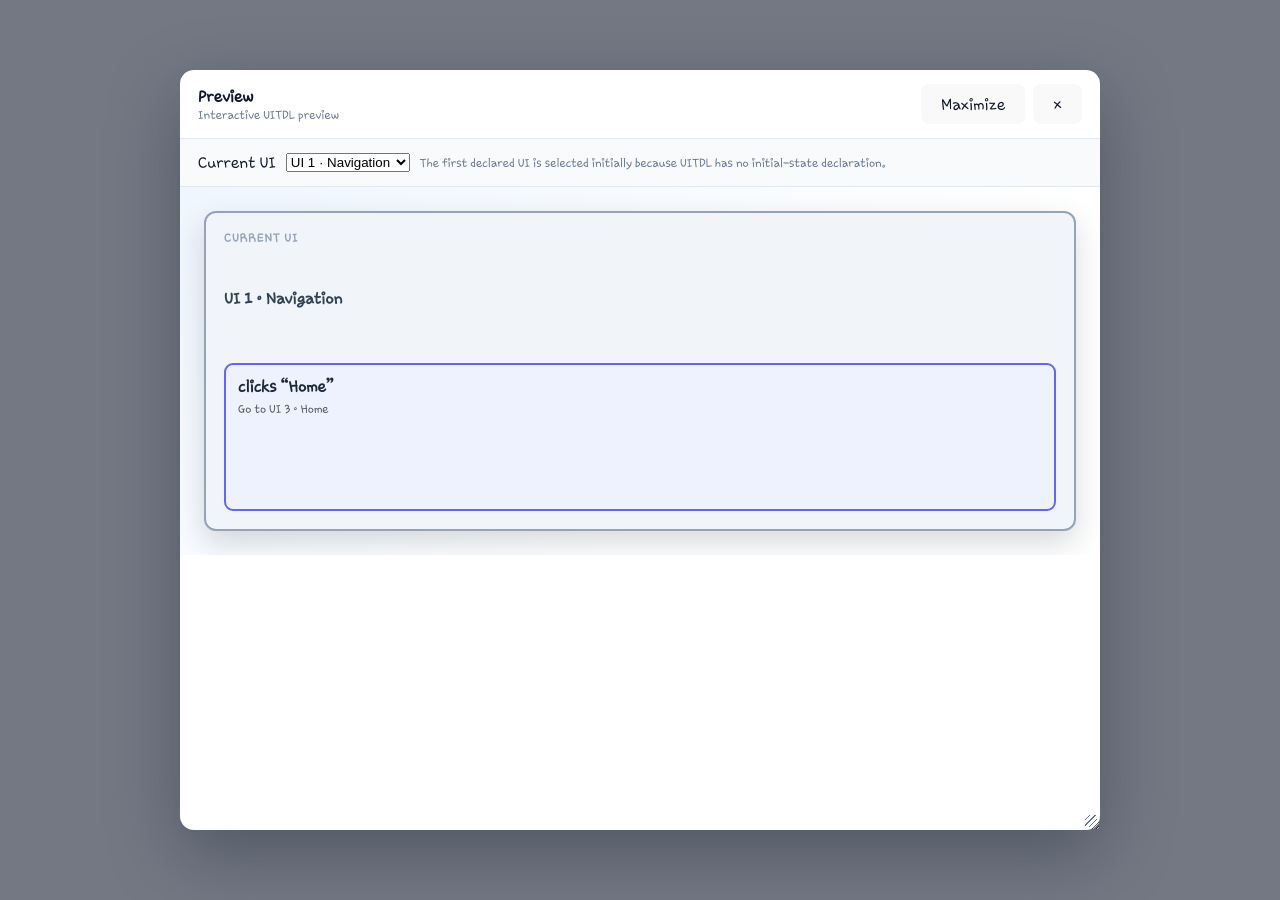
Scenario: InteractivePreview › navigates immediately from an unconditional inserted action
Select "UI 2 · Dashboard" in the dropdown labelled "Current UI" at (348, 163), box [286,153,410,172]
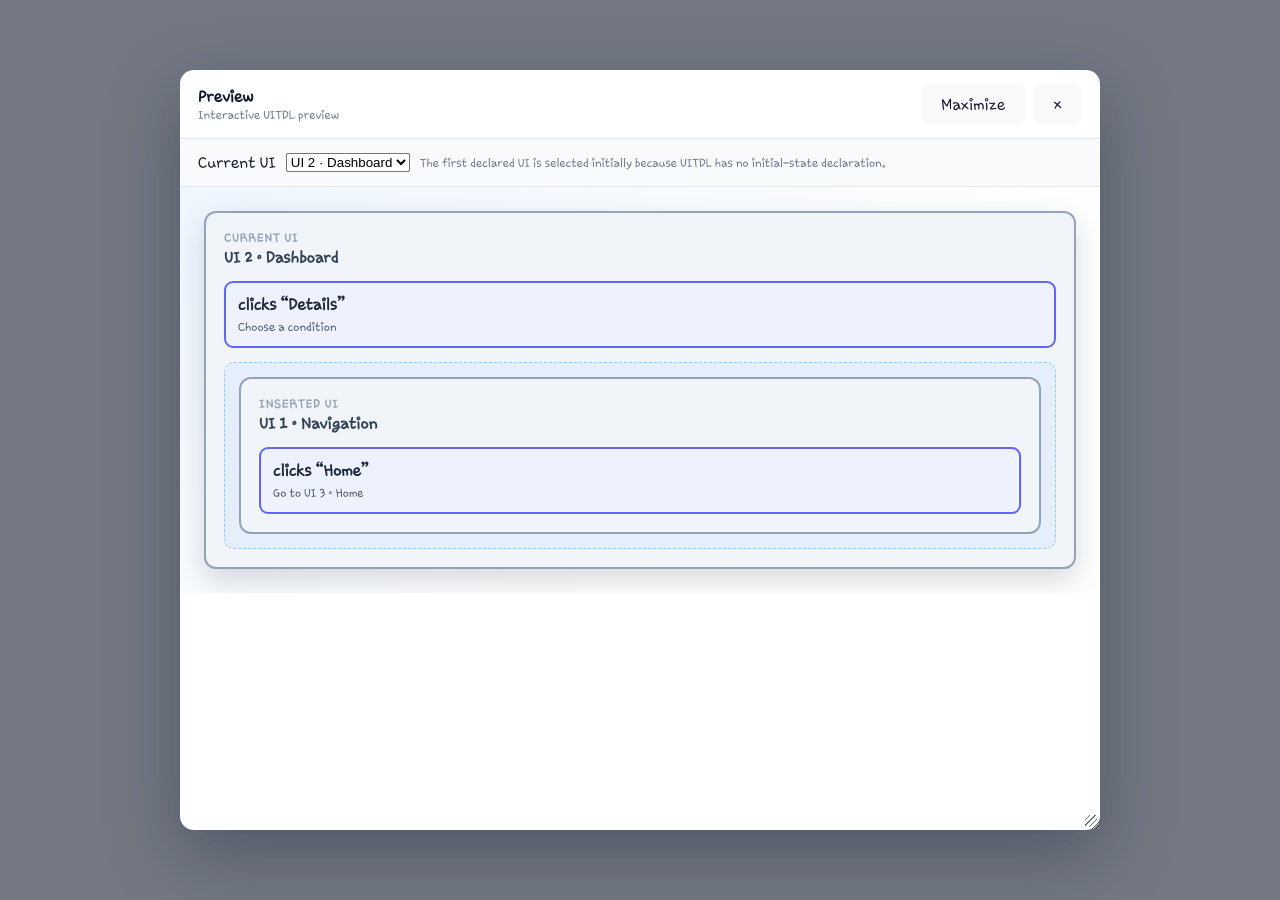
Click the button "clicks “Home” Go to UI 3 · Home" at (292, 471), box [259,447,1021,514]
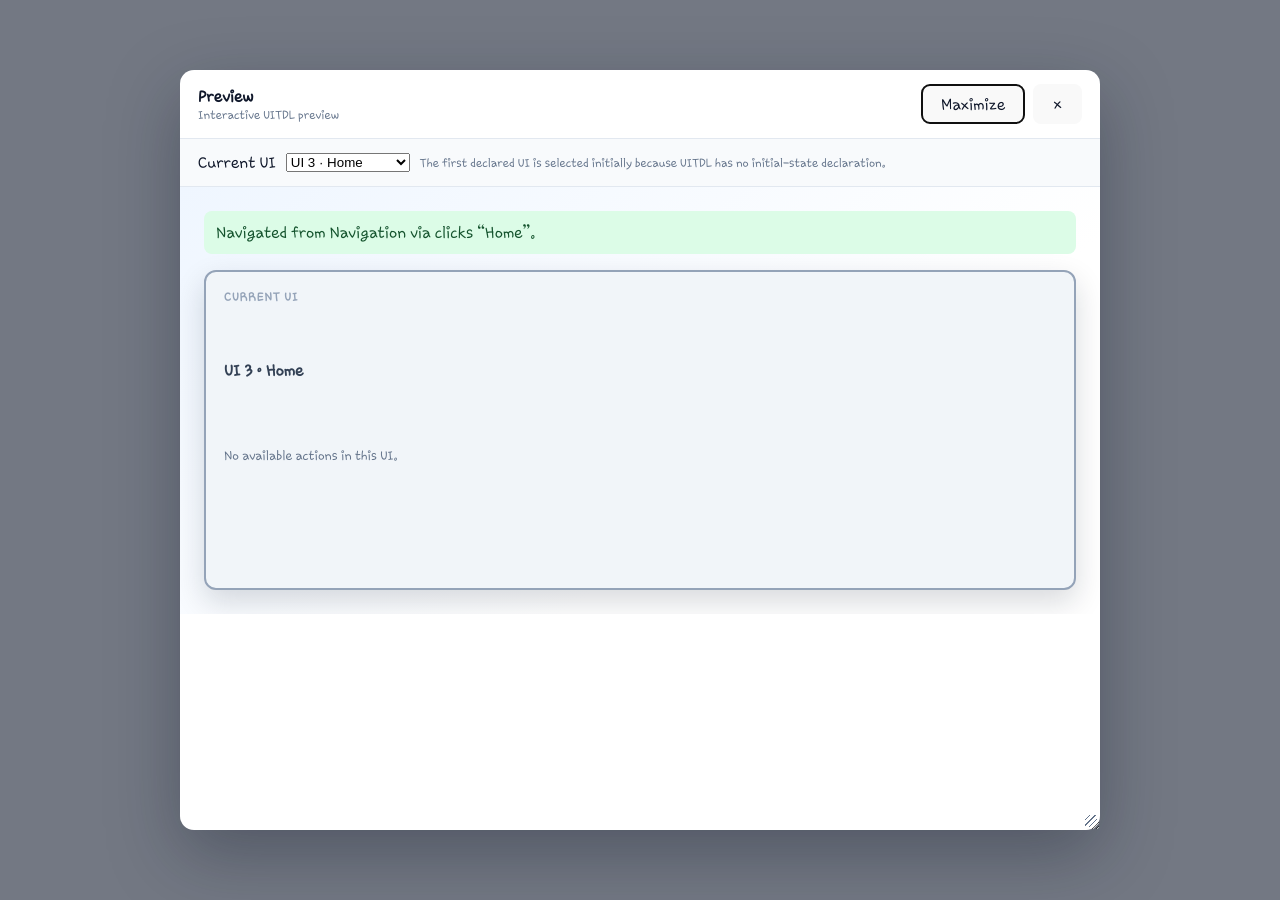
Expected: the element named "Current UI 3: Home" is shown, [204,270,1076,590]
